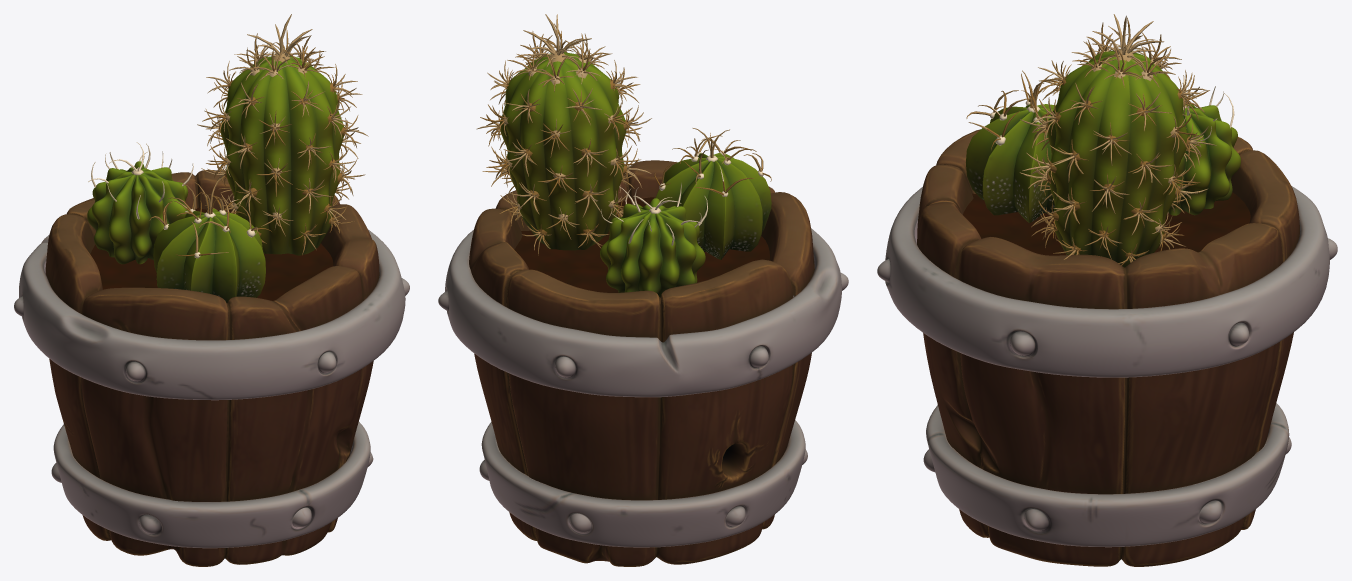
Rendered from pot.glb.
The picture shows the model from 3 angles, left to right: view 1: azimuth 30°, elevation 25°; view 2: azimuth 150°, elevation 25°; view 3: azimuth 270°, elevation 25°; orthographic projection. The views are drawn at different scales.
Parts seen in each view (by area): view 1: pCylinder3_low, pCylinder5_low, pCylinder2_low, pCylinder4_low, pCylinder1_low, pSphere1_low, pPlane1_low; view 2: pCylinder3_low, pCylinder5_low, pCylinder2_low, pCylinder4_low, pCylinder1_low, pSphere1_low, pPlane1_low; view 3: pCylinder3_low, pCylinder5_low, pCylinder2_low, pCylinder4_low, pCylinder1_low, pPlane1_low, pSphere1_low.
Part boxes in pixels (bbox=[...]): pCylinder3_low: bbox=[45, 170, 379, 566]; pCylinder5_low: bbox=[14, 229, 409, 400]; pCylinder2_low: bbox=[220, 56, 343, 255]; pCylinder4_low: bbox=[51, 421, 373, 548]; pCylinder1_low: bbox=[153, 208, 265, 302]; pSphere1_low: bbox=[87, 161, 188, 264]; pPlane1_low: bbox=[90, 207, 333, 300]; pCylinder3_low: bbox=[469, 160, 814, 566]; pCylinder5_low: bbox=[438, 228, 848, 397]; pCylinder2_low: bbox=[500, 52, 626, 250]; pCylinder4_low: bbox=[479, 420, 807, 547]; pCylinder1_low: bbox=[655, 153, 771, 259]; pSphere1_low: bbox=[600, 198, 705, 297]; pPlane1_low: bbox=[514, 197, 769, 292]; pCylinder3_low: bbox=[917, 129, 1299, 566]; pCylinder5_low: bbox=[877, 186, 1337, 377]; pCylinder2_low: bbox=[1047, 50, 1187, 267]; pCylinder4_low: bbox=[923, 403, 1291, 547]; pCylinder1_low: bbox=[965, 104, 1055, 222]; pPlane1_low: bbox=[963, 192, 1250, 255]; pSphere1_low: bbox=[1168, 104, 1240, 215].
Size of the model in its own units: 8.73 by 12.01 by 9.2.
1 material, 1 textured.
